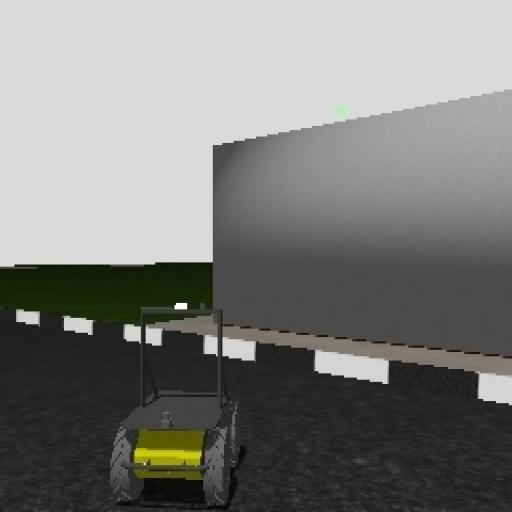huskya200: (95, 272, 242, 512)
